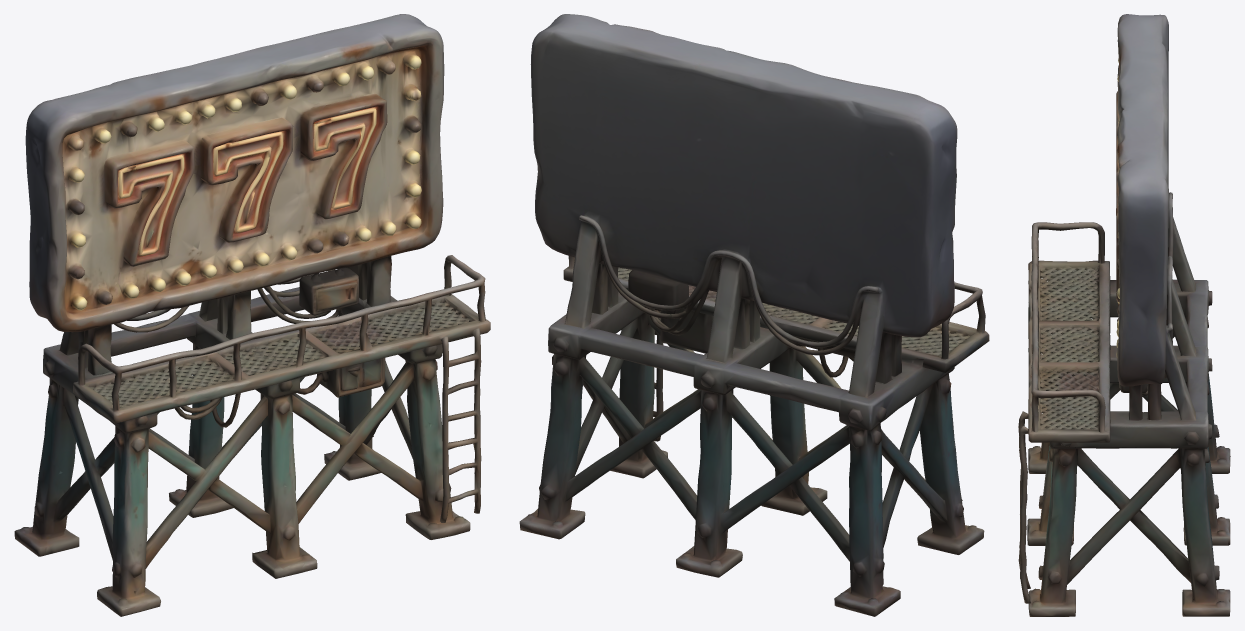
Rendered from roof_billboard.glb.
3 views of the same model, side by side, from view 1: azimuth 30°, elevation 25°; view 2: azimuth 150°, elevation 25°; view 3: azimuth 270°, elevation 25° (orthographic). The views are drawn at different scales.
Visible parts, largest first — view 1: tripo_part_0, tripo_part_2, tripo_part_1; view 2: tripo_part_0, tripo_part_2, tripo_part_1; view 3: tripo_part_2, tripo_part_0, tripo_part_1.
Boxes of the visible parts, x1,y1,x2,y2 form: tripo_part_0: (25,14,444,375); tripo_part_2: (14,287,470,616); tripo_part_1: (73,255,490,522); tripo_part_0: (530,14,957,398); tripo_part_2: (519,288,984,616); tripo_part_1: (563,256,989,441); tripo_part_2: (1027,276,1230,616); tripo_part_0: (1116,14,1196,420); tripo_part_1: (1018,222,1110,603).
Size of the model in its own units: 0.8731 by 0.9801 by 0.4252.
Materials: 1 (1 with a texture image).
